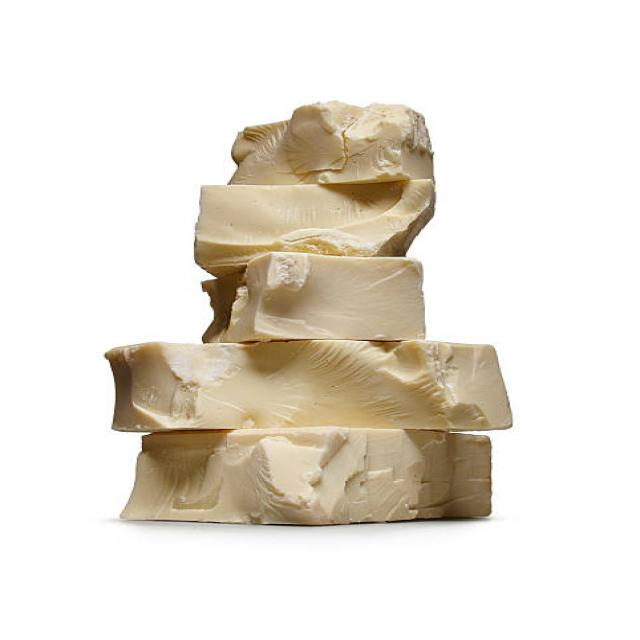Chocolate: (97, 92, 520, 526)
